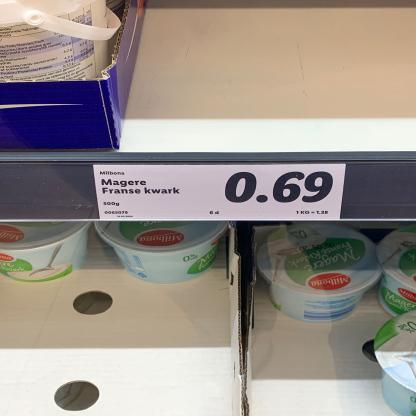prtg: (94, 165, 348, 221)
